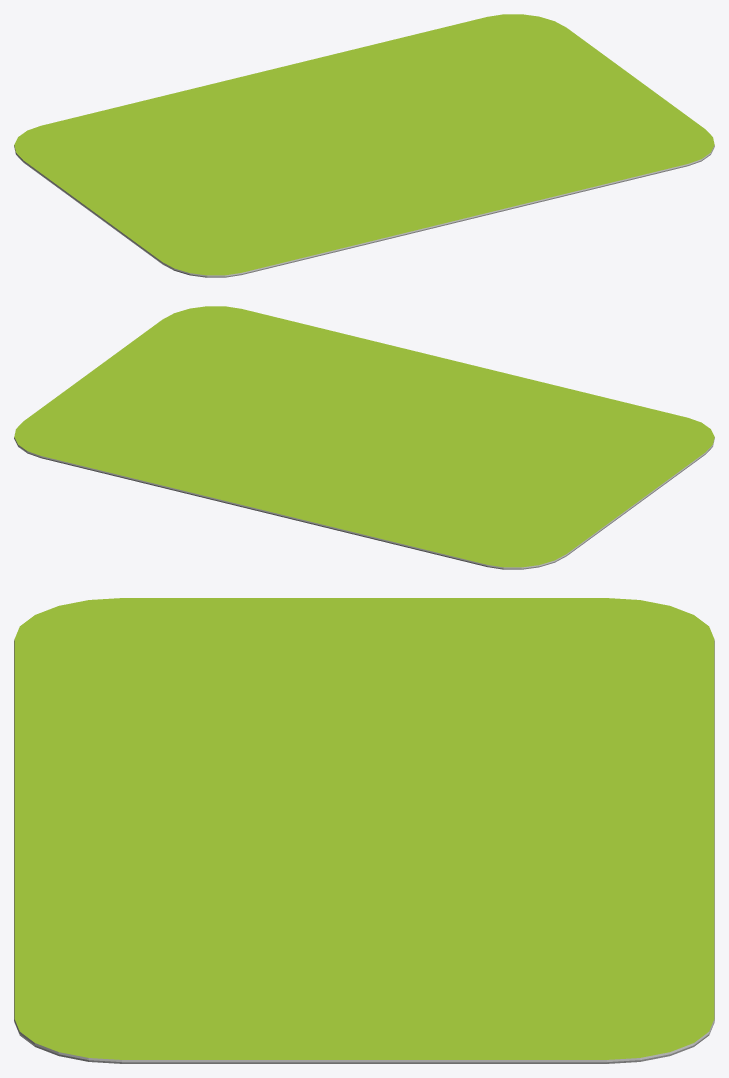
Rendered from card_v2.fbx.
The picture shows the model from 3 angles, top to bottom: view 1: azimuth 30°, elevation 25°; view 2: azimuth 150°, elevation 25°; view 3: azimuth 270°, elevation 25°; orthographic projection. The views are drawn at different scales.
Visible parts, largest first — view 1: Cube; view 2: Cube; view 3: Cube.
Part boxes in pixels (x1,y1,x2,y2): Cube: [14, 14, 714, 277]; Cube: [14, 306, 714, 569]; Cube: [14, 598, 714, 1063].
Bounding box in the file's own units: 74.29 × 0.3 × 47.6.
